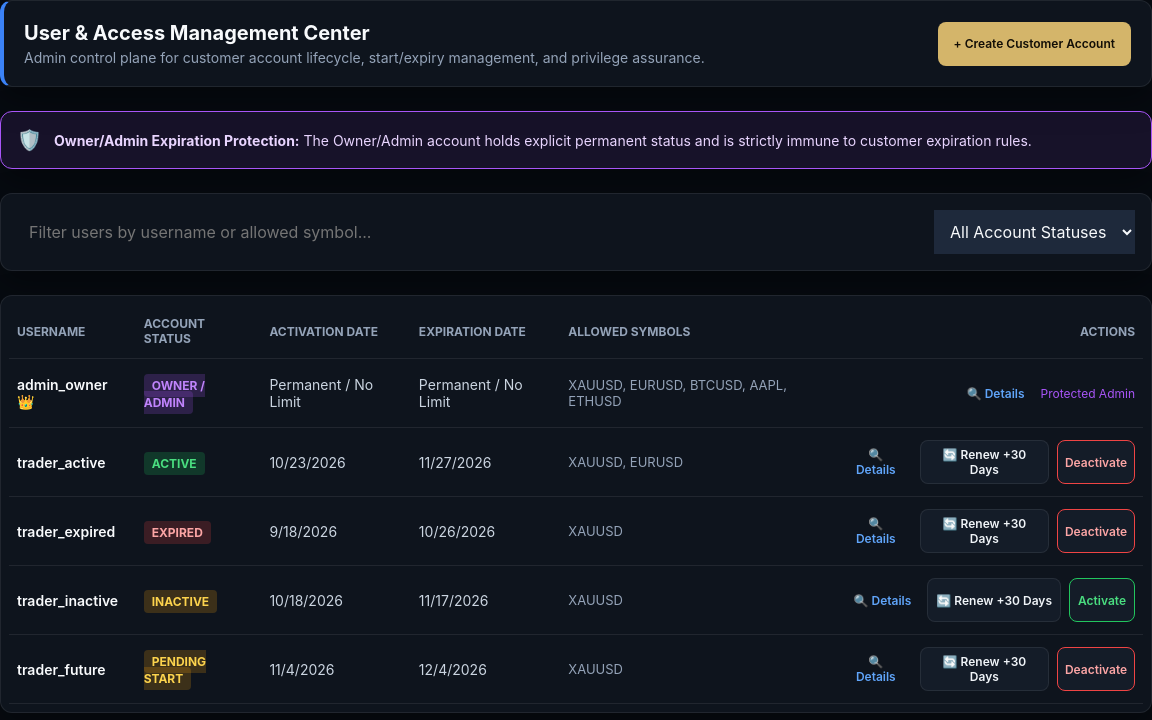
Scenario: UserManagementCenter UI Component › opens create account modal and filters users
Click the button "+ Create Customer Account" at x=1034, y=44, box 938,22 -> 1131,66
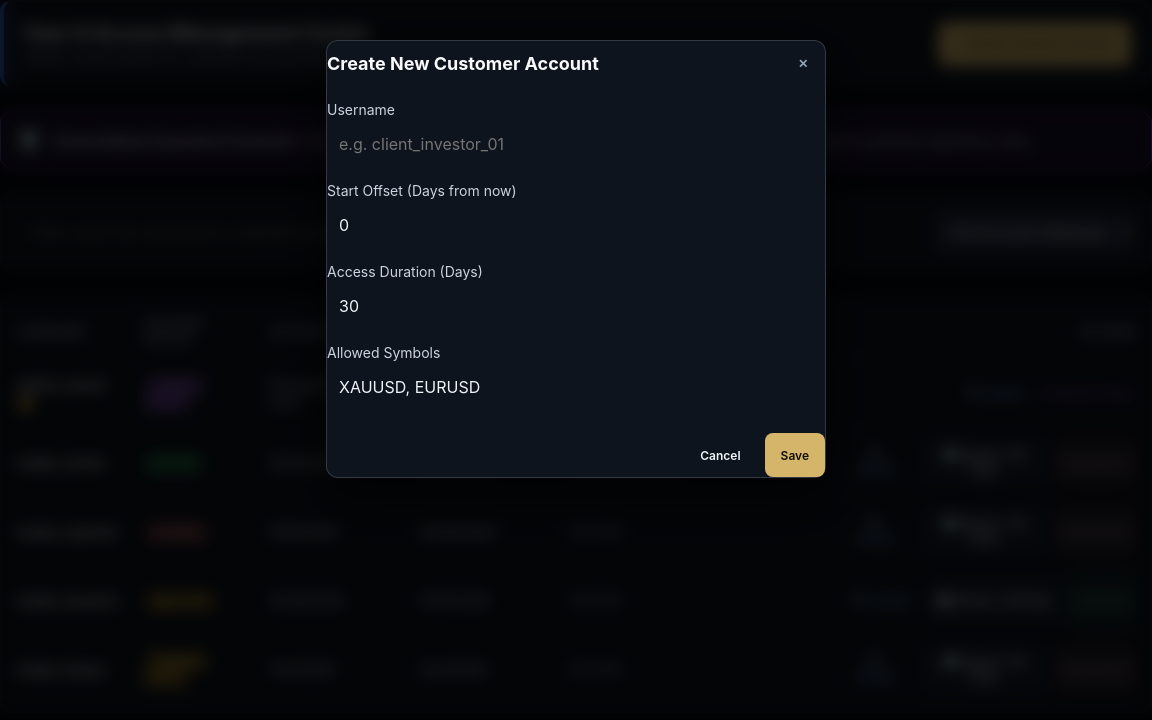
Check: the heading "Create New Customer Account" is shown, box 327,52 -> 599,74
